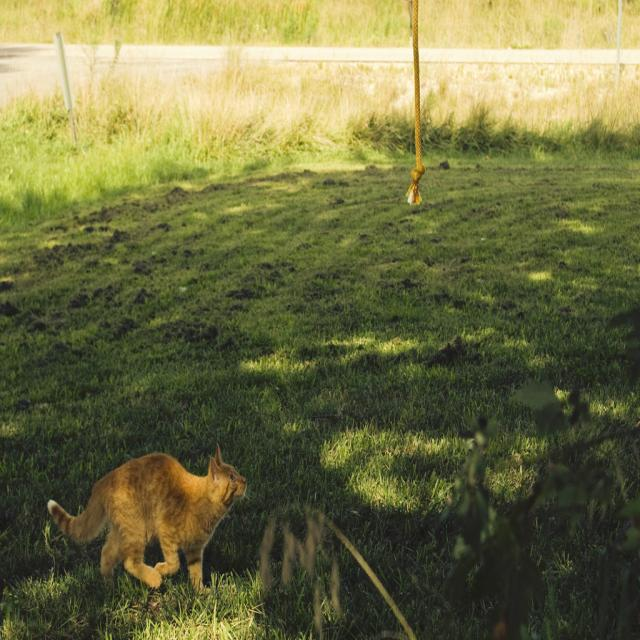Cat: (46, 443, 248, 598)
